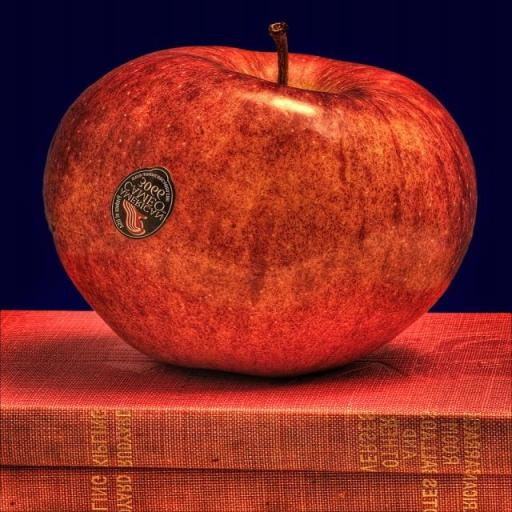fruit: (44, 48, 475, 375)
